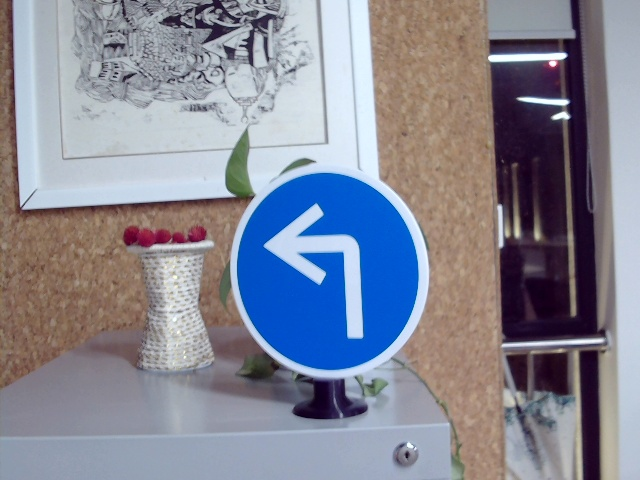turn_left: (268, 199, 376, 338)
